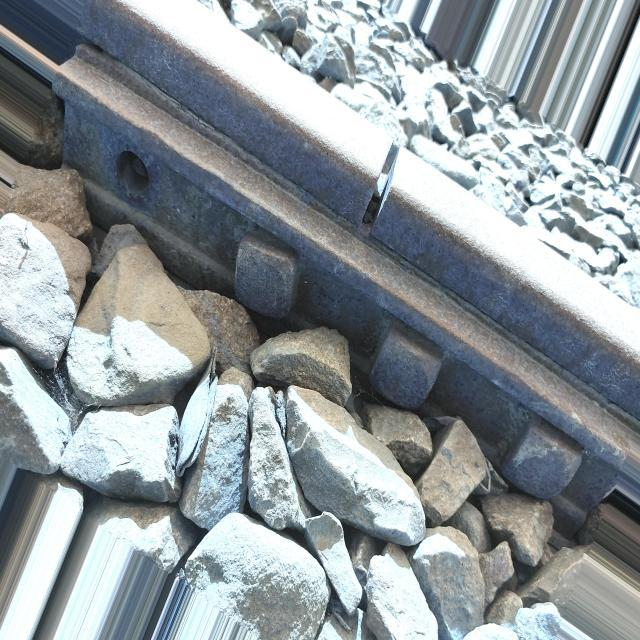Defective Joint: (50, 41, 633, 544)
